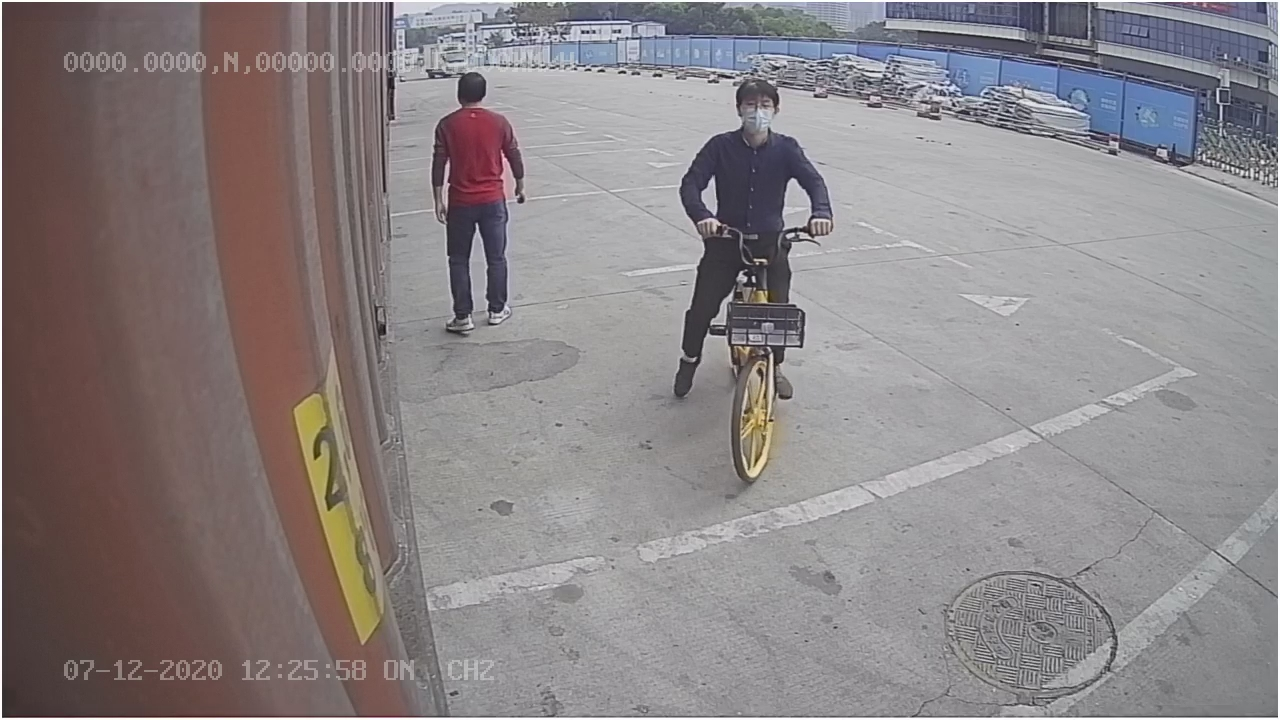person: (425, 69, 529, 332)
